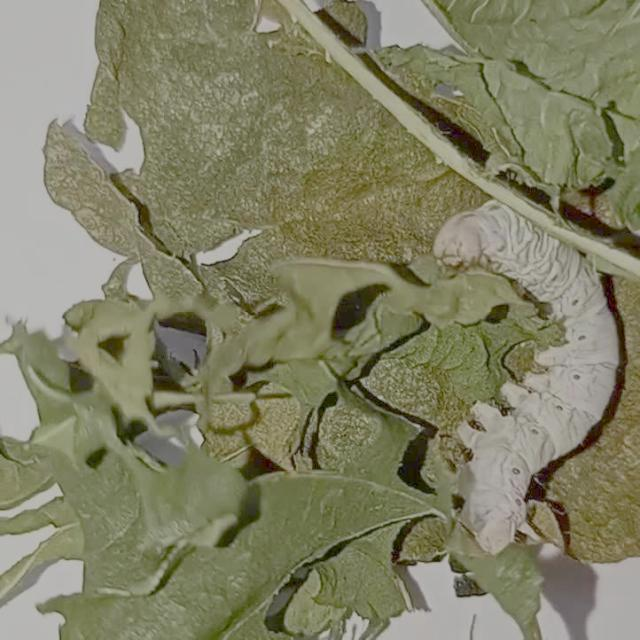Healthy: (383, 169, 640, 573)
